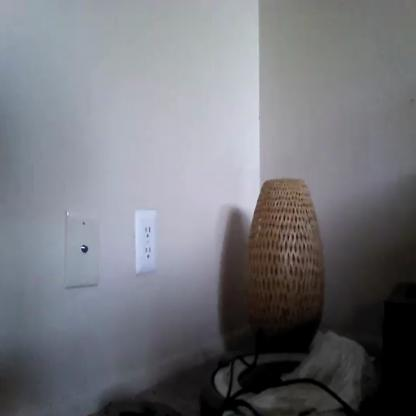OUTLET: (135, 209, 157, 273)
